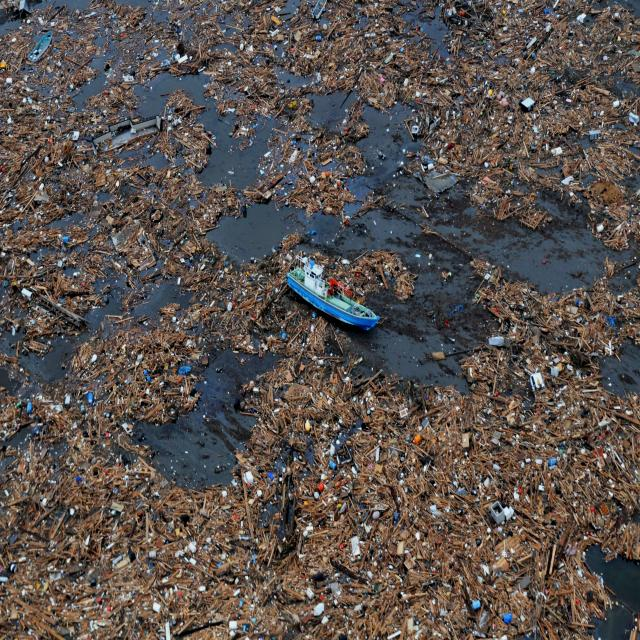plastic watse: (246, 333, 640, 640), (242, 348, 639, 638), (438, 317, 640, 638), (278, 4, 608, 175), (56, 372, 155, 487), (146, 388, 238, 489), (91, 260, 190, 352), (3, 525, 82, 637), (15, 122, 112, 201), (25, 478, 91, 563), (165, 597, 224, 638), (145, 551, 181, 606), (116, 342, 152, 385), (168, 355, 202, 380), (100, 338, 122, 367), (109, 480, 123, 522), (49, 513, 69, 539), (125, 603, 140, 636), (194, 563, 216, 582), (127, 520, 136, 557), (143, 514, 150, 544), (198, 584, 207, 597), (216, 566, 226, 575), (153, 602, 160, 611)
